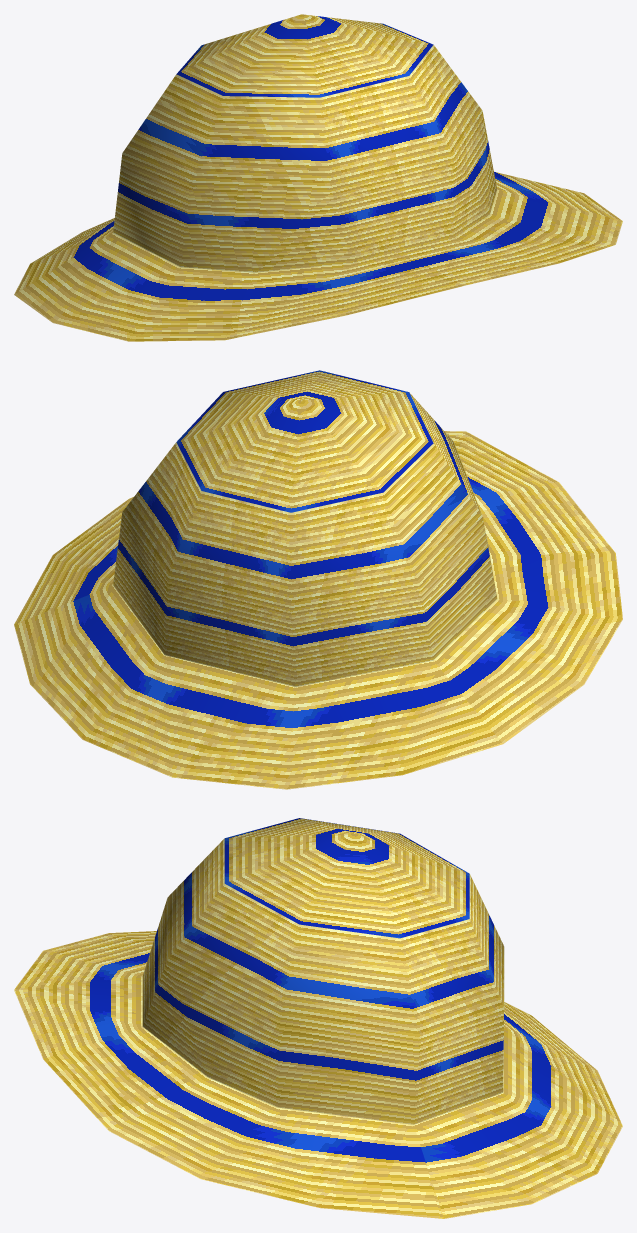
Rendered from code_head27.gltf.
3 renders of one model, top to bottom at view 1: azimuth 30°, elevation 25°; view 2: azimuth 150°, elevation 25°; view 3: azimuth 270°, elevation 25°, orthographic. The views are drawn at different scales.
Visible parts, largest first — view 1: code_head27; view 2: code_head27; view 3: code_head27.
Part boxes in pixels (box(x1,y1,x2,y2)): code_head27: box(14, 14, 622, 341); code_head27: box(14, 370, 622, 789); code_head27: box(14, 818, 622, 1218).
Bounding box in the file's own units: 0.832 × 0.4224 × 0.7959.
1 material, 1 textured.
